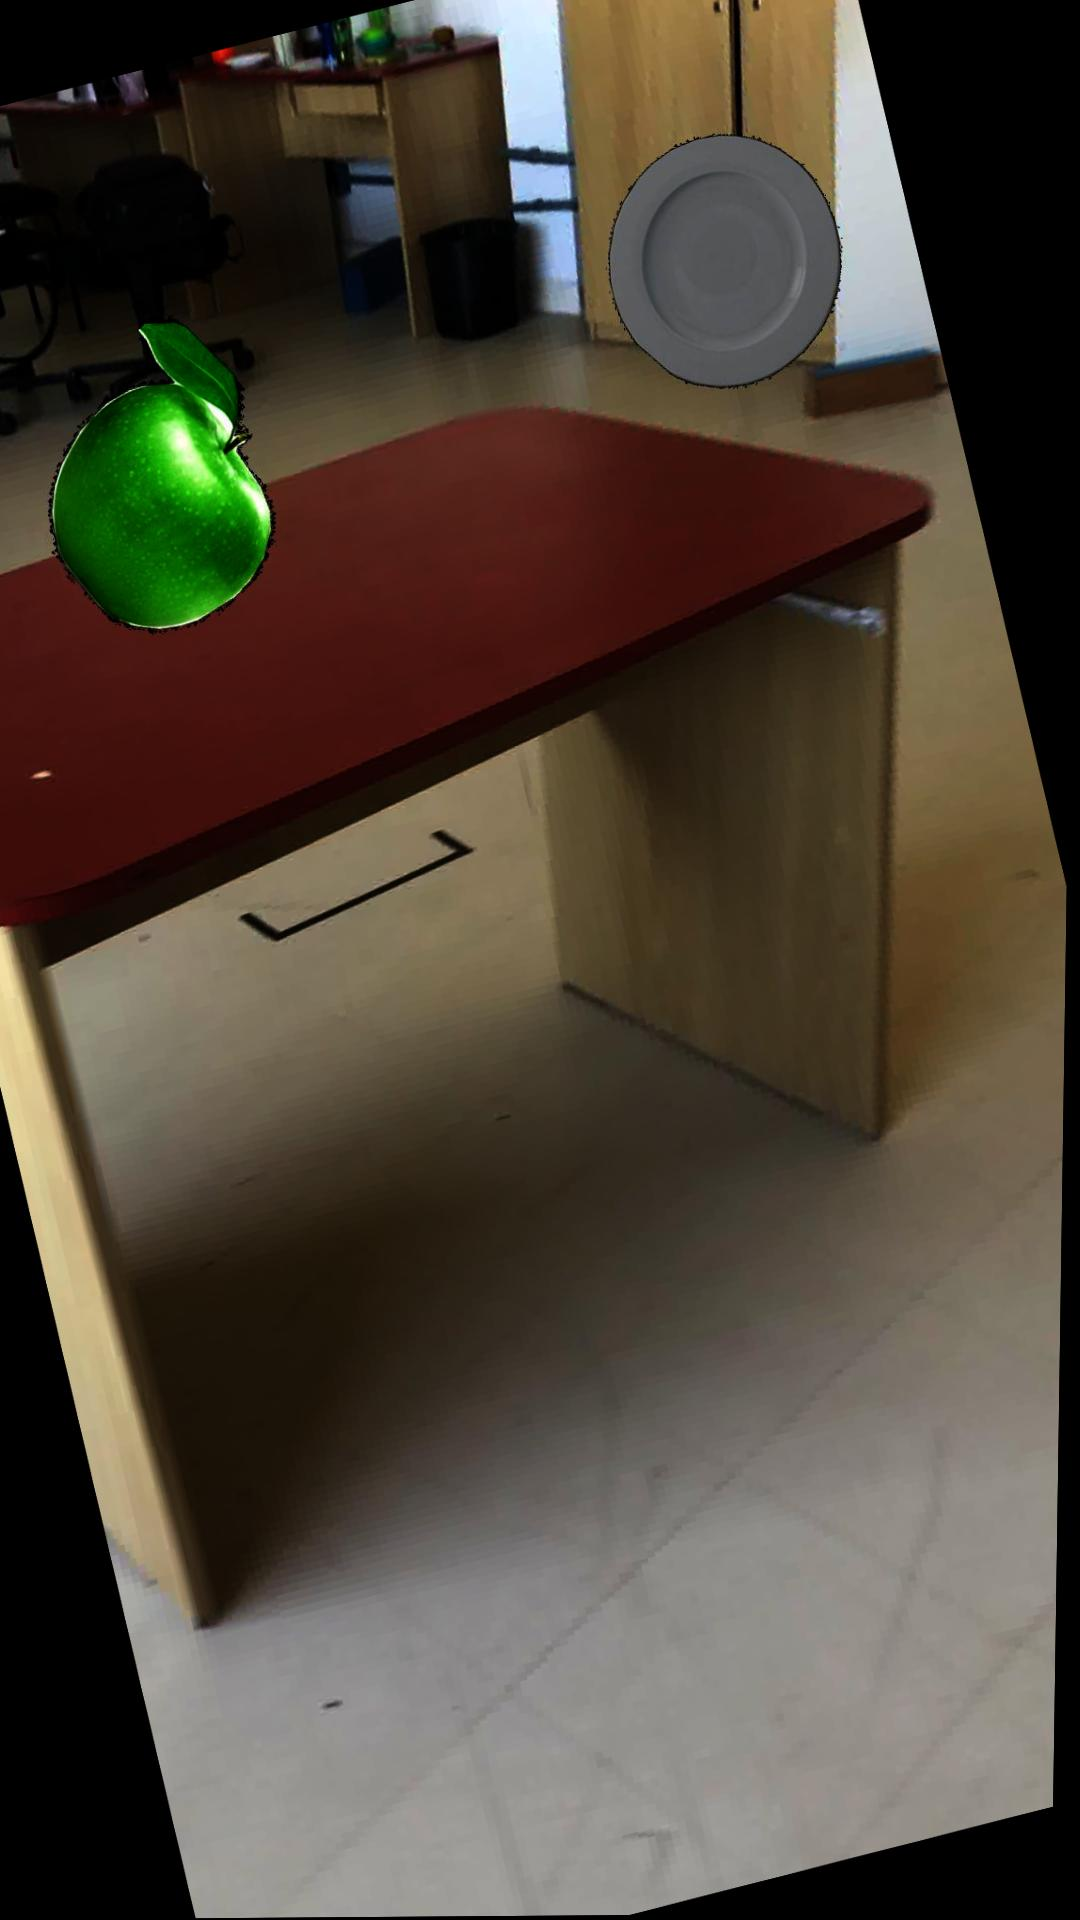green apple: (50, 314, 278, 632)
plate: (609, 133, 843, 388)
